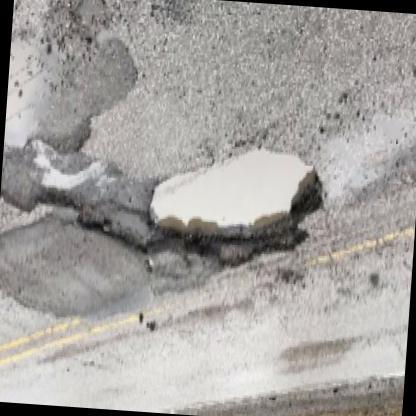pothole: (148, 142, 328, 274), (0, 137, 155, 257)
